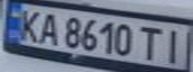0: (115, 20, 139, 57)
1: (97, 19, 118, 55)
6: (78, 17, 100, 52)
8: (60, 15, 84, 49)
A: (33, 10, 63, 46)
I: (160, 26, 190, 64)
K: (15, 7, 45, 43)
T: (136, 24, 166, 61)
